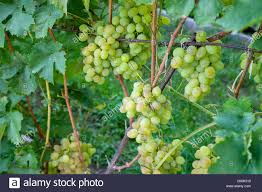grapes: (120, 81, 187, 174), (78, 3, 154, 81), (168, 34, 229, 103), (51, 134, 93, 173)
